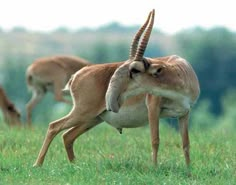saiga: (33, 8, 201, 166)
